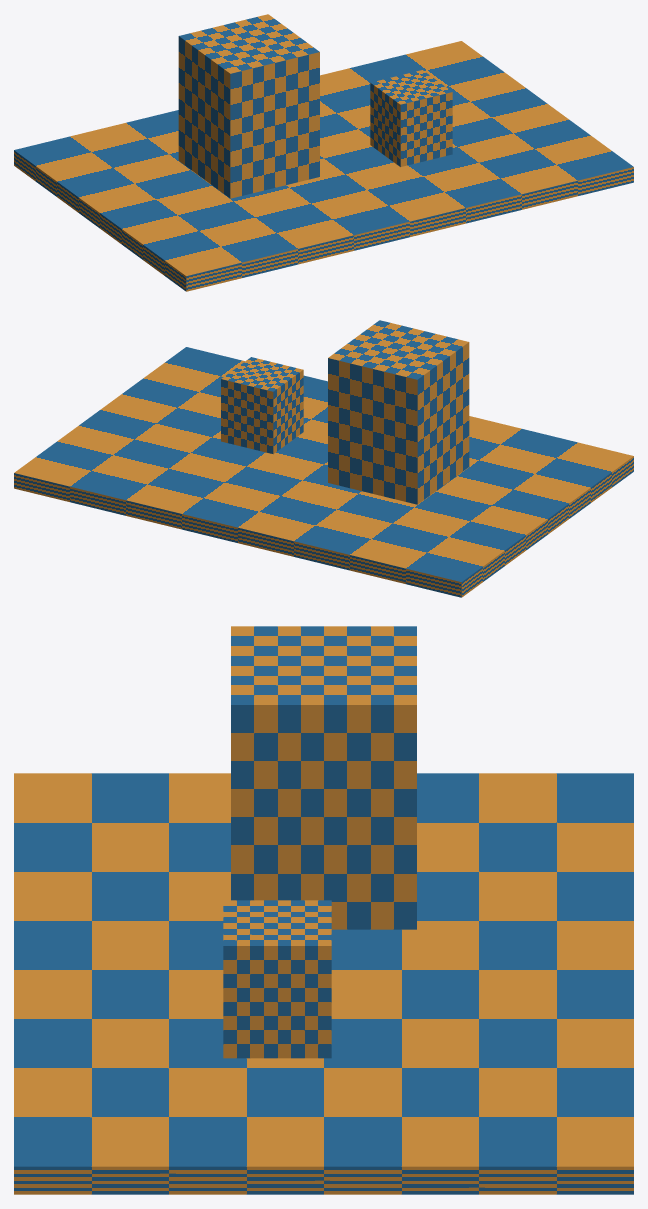
Rendered from specular-room.glb.
3 views of the same model, one above another, from view 1: azimuth 30°, elevation 25°; view 2: azimuth 150°, elevation 25°; view 3: azimuth 270°, elevation 25° (orthographic). The views are drawn at different scales.
Size of the model in its own units: 6 by 1.9 by 4.
1 material, 1 textured.
